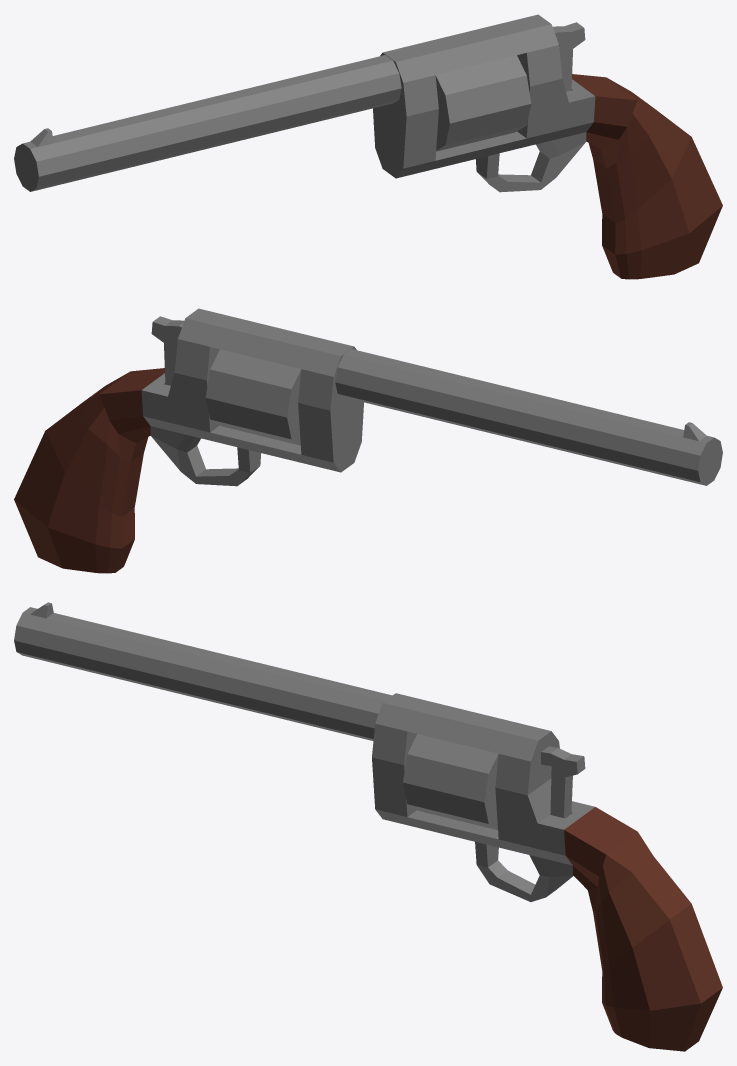
File: gun.obj
3 renders of one model, top to bottom at view 1: azimuth 30°, elevation 25°; view 2: azimuth 150°, elevation 25°; view 3: azimuth 330°, elevation 25°, orthographic.
Parts seen in each view (by area): view 1: GunHandler_Cylinder.005, GunPipe_Cylinder.002, GunBarrel_Cylinder.001, GunCock_Cylinder.003; view 2: GunHandler_Cylinder.005, GunPipe_Cylinder.002, GunBarrel_Cylinder.001, GunCock_Cylinder.003; view 3: GunHandler_Cylinder.005, GunPipe_Cylinder.002, GunBarrel_Cylinder.001, GunCock_Cylinder.003.
Part boxes in pixels (bbox=[...]): GunHandler_Cylinder.005: bbox=[373, 14, 722, 279]; GunPipe_Cylinder.002: bbox=[14, 55, 401, 191]; GunBarrel_Cylinder.001: bbox=[435, 55, 531, 151]; GunCock_Cylinder.003: bbox=[552, 22, 585, 91]; GunHandler_Cylinder.005: bbox=[14, 308, 363, 573]; GunPipe_Cylinder.002: bbox=[335, 349, 722, 485]; GunBarrel_Cylinder.001: bbox=[205, 349, 301, 445]; GunCock_Cylinder.003: bbox=[151, 316, 184, 385]; GunHandler_Cylinder.005: bbox=[372, 693, 722, 1051]; GunPipe_Cylinder.002: bbox=[14, 602, 392, 740]; GunBarrel_Cylinder.001: bbox=[403, 734, 498, 830]; GunCock_Cylinder.003: bbox=[541, 746, 585, 818].
Size of the model in its own units: 5.93 by 2.36 by 0.7041.
